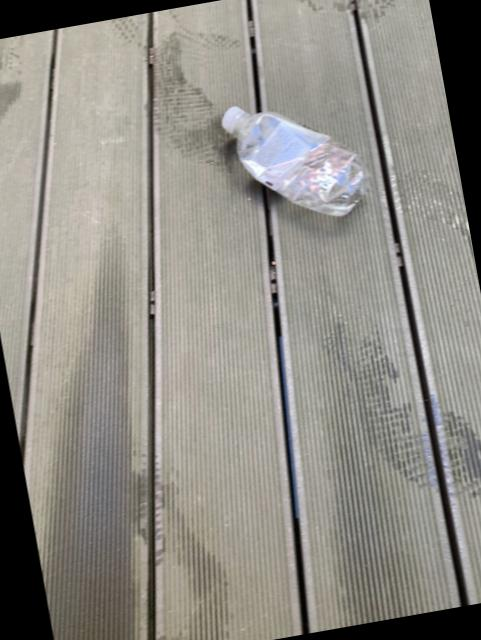plastic: (219, 104, 366, 213)
